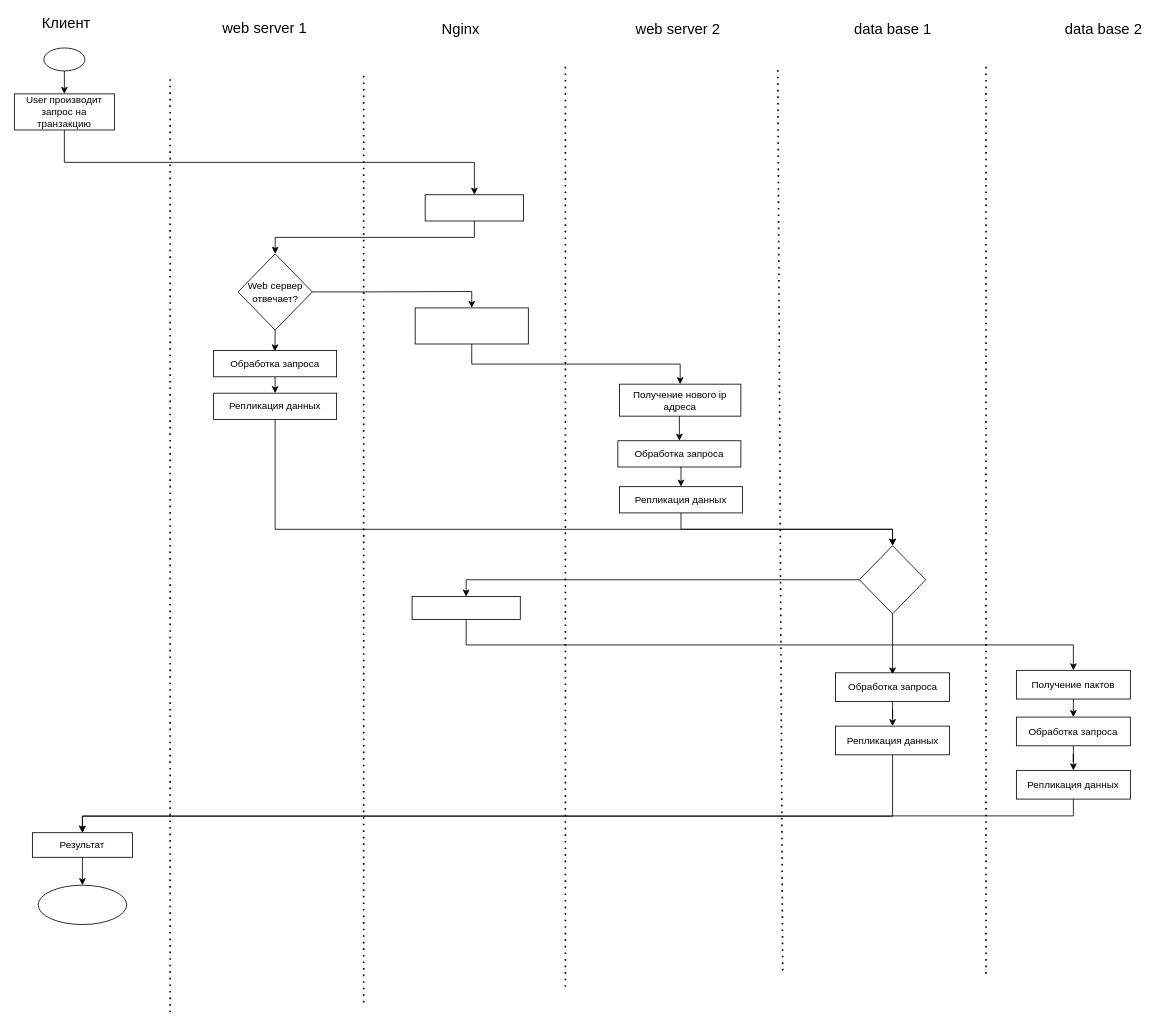
The diagram is 1160 pixels wide and 1027 high, and some of its shapes have lost their labels. The centre of each missing label's shape, as x and y in pixels:
DB1 отвечает?: point 892,579
Конец: point 82,904
Начало: point 64,59
Переадресация пакетов: point 465,608
Передача виртуального Ip адреса: point 471,325
Переход по DNS NAME 9sasha.com: point 474,207
